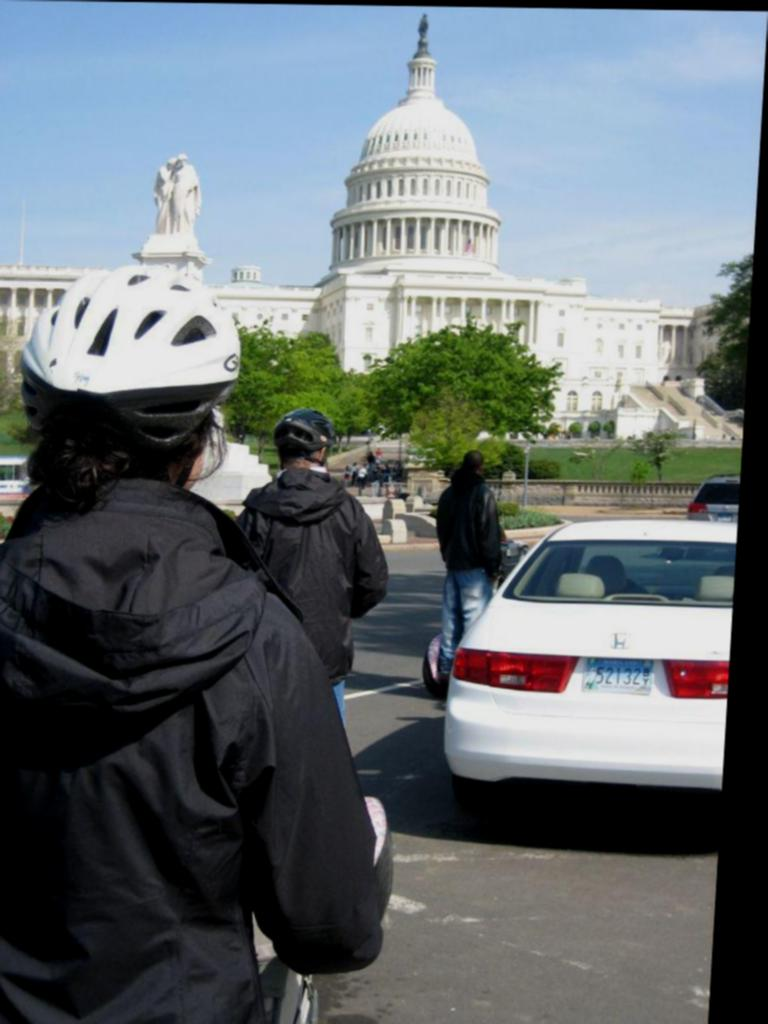License_Plate: (577, 654, 658, 696)
